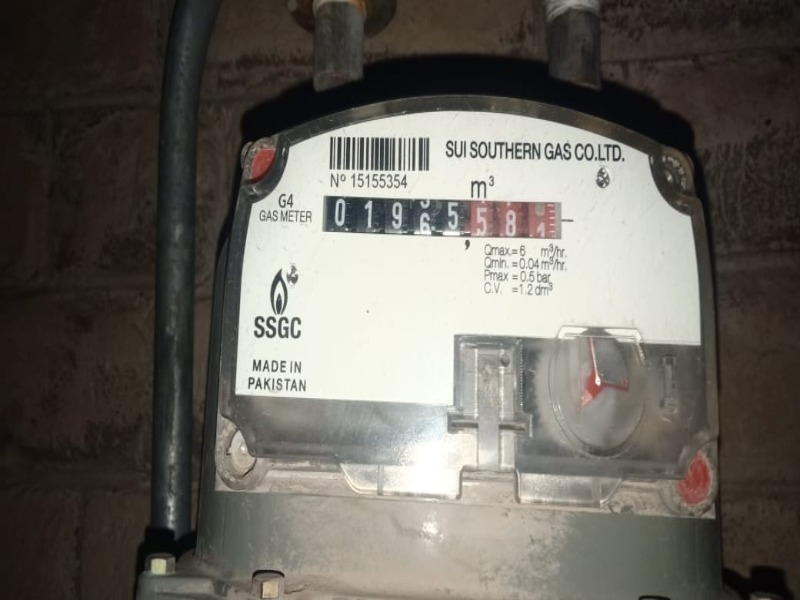ssgc: (318, 193, 559, 246)
